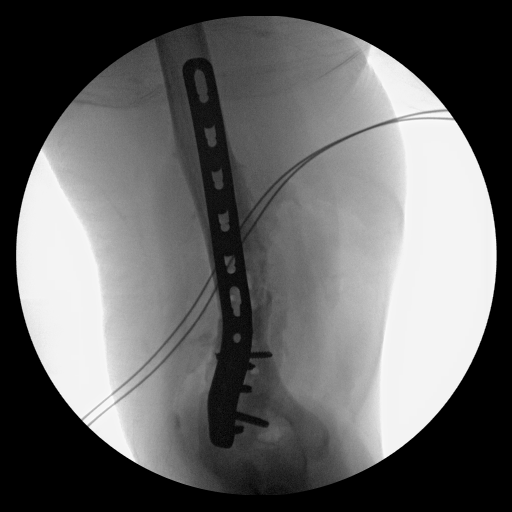implant: (180, 53, 254, 319), (204, 341, 277, 447)
